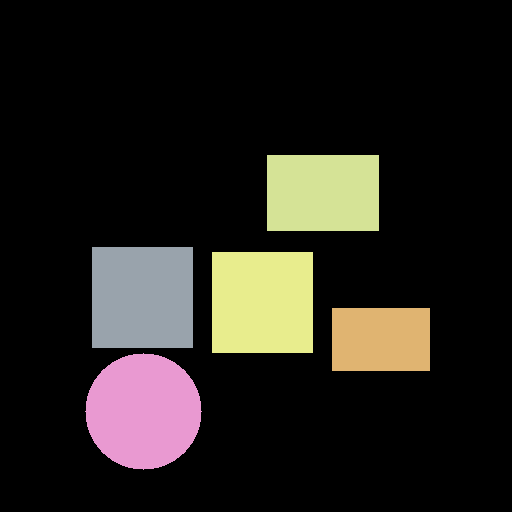circle: (85, 353, 201, 469)
rectangle: (267, 155, 378, 230), (332, 308, 429, 370)
square: (212, 252, 312, 352), (92, 247, 192, 347)
